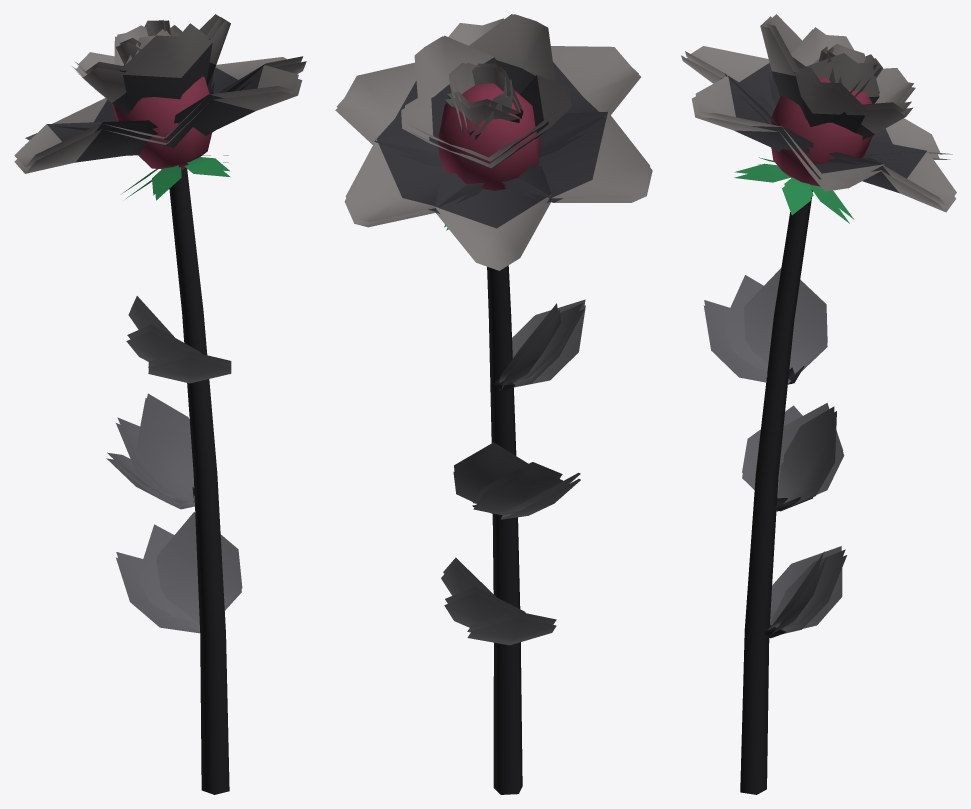
The model's file is col_blighted_bloom.gltf.
The picture shows the model from 3 angles, left to right: view 1: azimuth 30°, elevation 25°; view 2: azimuth 150°, elevation 25°; view 3: azimuth 270°, elevation 25°; orthographic projection. The views are drawn at different scales.
Visible parts, largest first — view 1: col_blighted_bloom; view 2: col_blighted_bloom; view 3: col_blighted_bloom.
Part boxes in pixels (x1,y1,x2,y2): col_blighted_bloom: (14, 14, 306, 794); col_blighted_bloom: (335, 14, 652, 794); col_blighted_bloom: (681, 14, 956, 794).
Size of what is drawn, in the model's own units: 0.1562 by 0.3977 by 0.1315.
